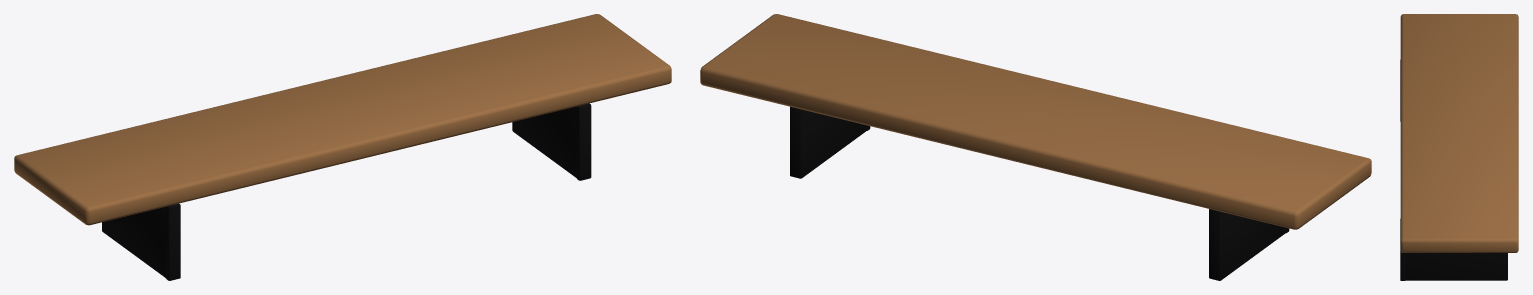
The model's file is Shelf_Wall_1m.glb.
3 renders of one model, left to right at view 1: azimuth 30°, elevation 25°; view 2: azimuth 150°, elevation 25°; view 3: azimuth 270°, elevation 25°, orthographic. The views are drawn at different scales.
Visible parts, largest first — view 1: Shelf_Wall_1m; view 2: Shelf_Wall_1m; view 3: Shelf_Wall_1m.
Boxes of the visible parts, <box> form: Shelf_Wall_1m: <box>14,14,671,280</box>; Shelf_Wall_1m: <box>700,14,1371,280</box>; Shelf_Wall_1m: <box>1400,14,1518,280</box>.
Size of the model in its own units: 1 by 0.1505 by 0.2205.
